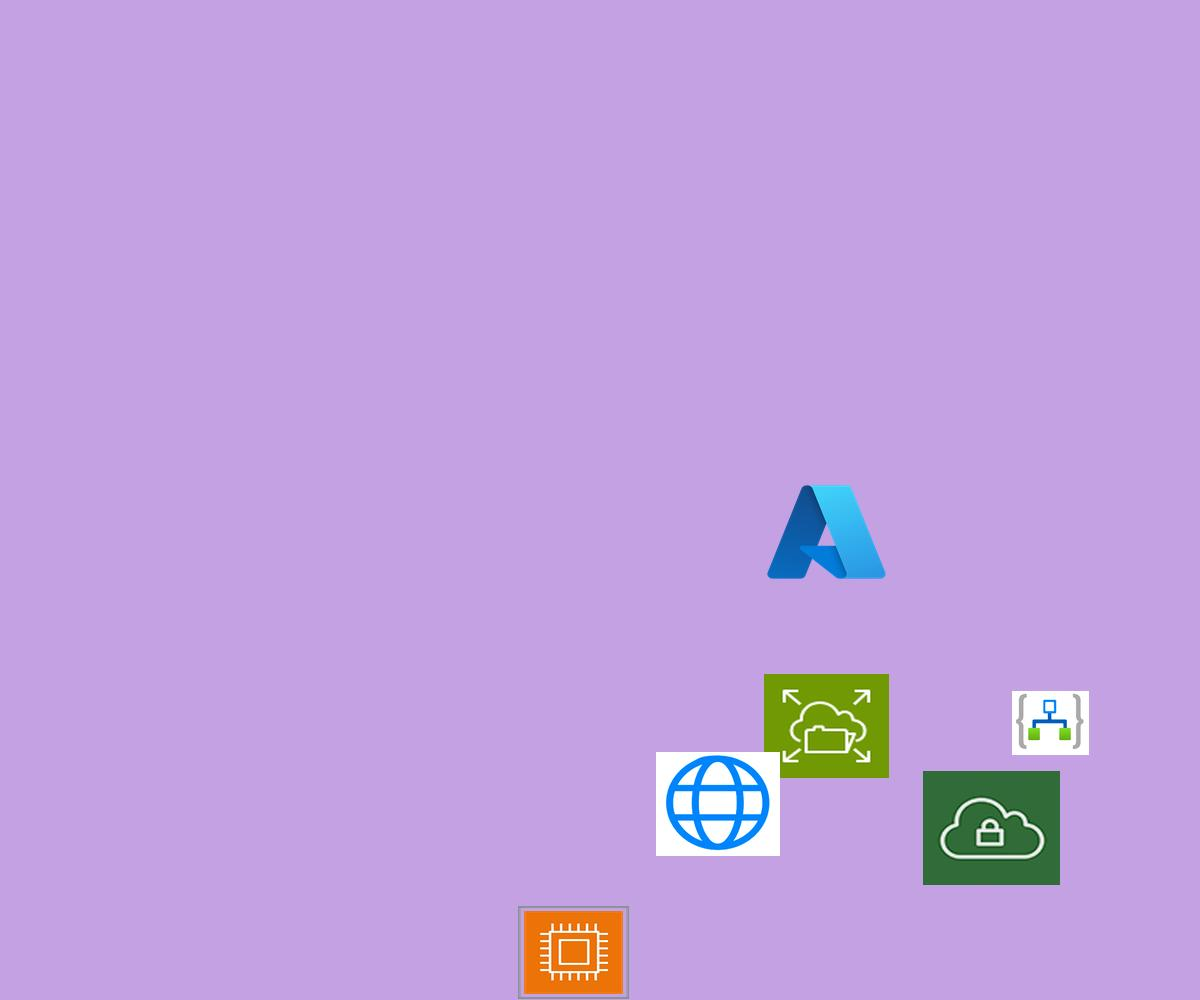AWS-Category_Compute: (518, 906, 629, 999)
AWS-EFS: (764, 674, 889, 778)
AWS-Private_vpc: (923, 771, 1060, 885)
Azure_http: (656, 752, 780, 856)
Azure_integration-204-Logic-Apps: (1012, 691, 1089, 755)
Azure_services: (762, 478, 891, 586)
